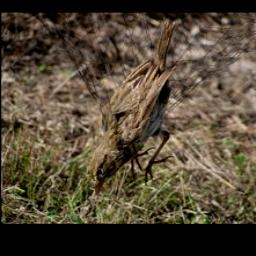Sparrow: (88, 15, 181, 197)
